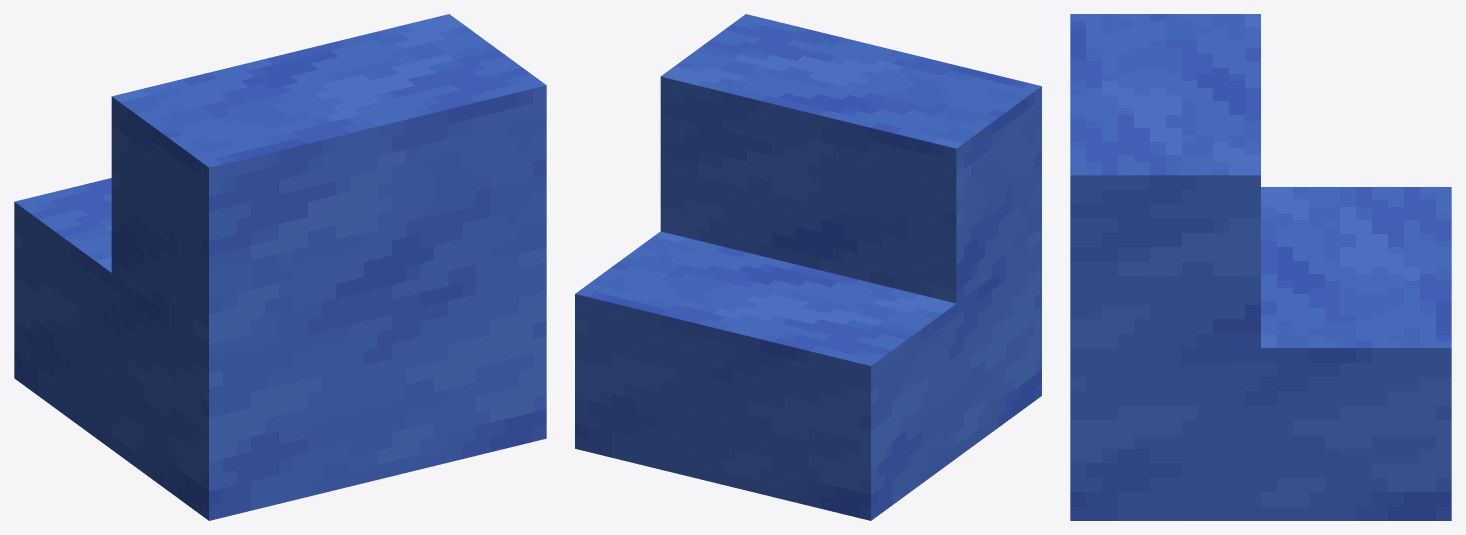
File: blue concrete stairs.gltf
3 views of the same model, side by side, from view 1: azimuth 30°, elevation 25°; view 2: azimuth 150°, elevation 25°; view 3: azimuth 270°, elevation 25° (orthographic). The views are drawn at different scales.
Parts seen in each view (by area): view 1: cube; view 2: cube; view 3: cube.
Boxes of the visible parts, x1,y1,x2,y2 form: cube: (14, 14, 546, 520); cube: (575, 14, 1041, 520); cube: (1070, 14, 1451, 520).
Bounding box in the file's own units: 1 × 1 × 1.
Materials: 1 (1 with a texture image).
